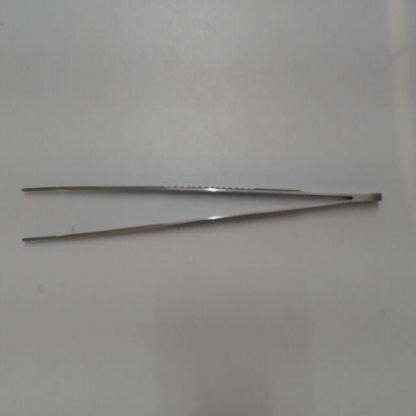DeBakey Dissector: (17, 171, 394, 261)
